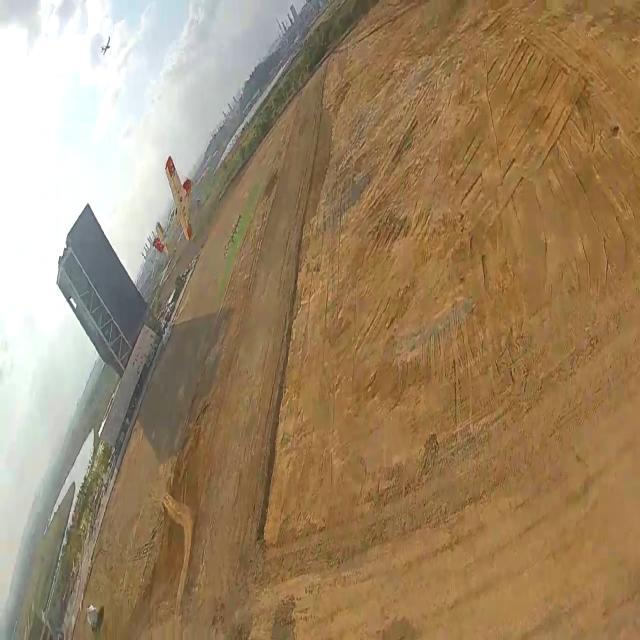iha: (147, 177, 199, 218)
